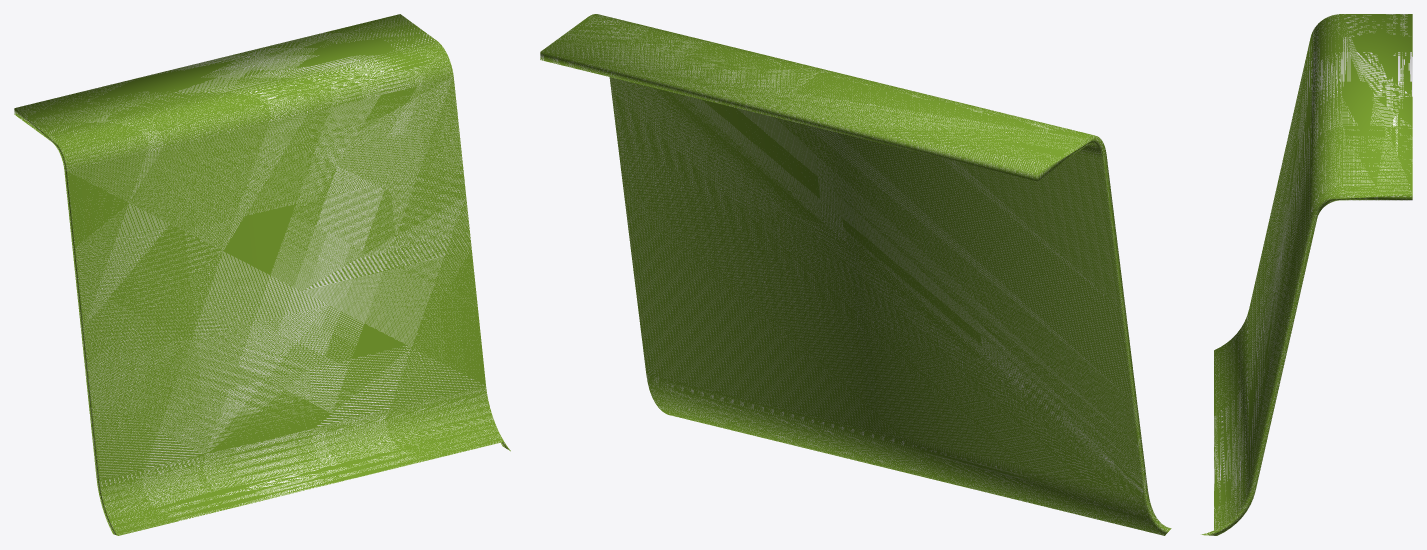
3 renders of one model, left to right at view 1: azimuth 30°, elevation 25°; view 2: azimuth 150°, elevation 25°; view 3: azimuth 270°, elevation 25°, orthographic. The views are drawn at different scales.
Bounding box in the file's own units: 0.6934 × 0.6138 × 0.3458.
